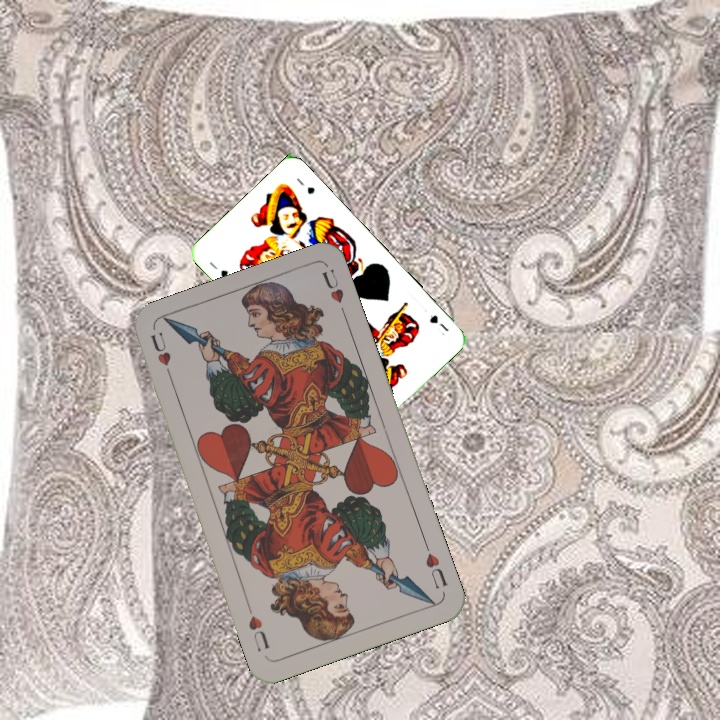GU: (425, 311, 451, 338), (205, 258, 230, 280)
HU: (146, 328, 176, 384), (420, 538, 450, 592)
